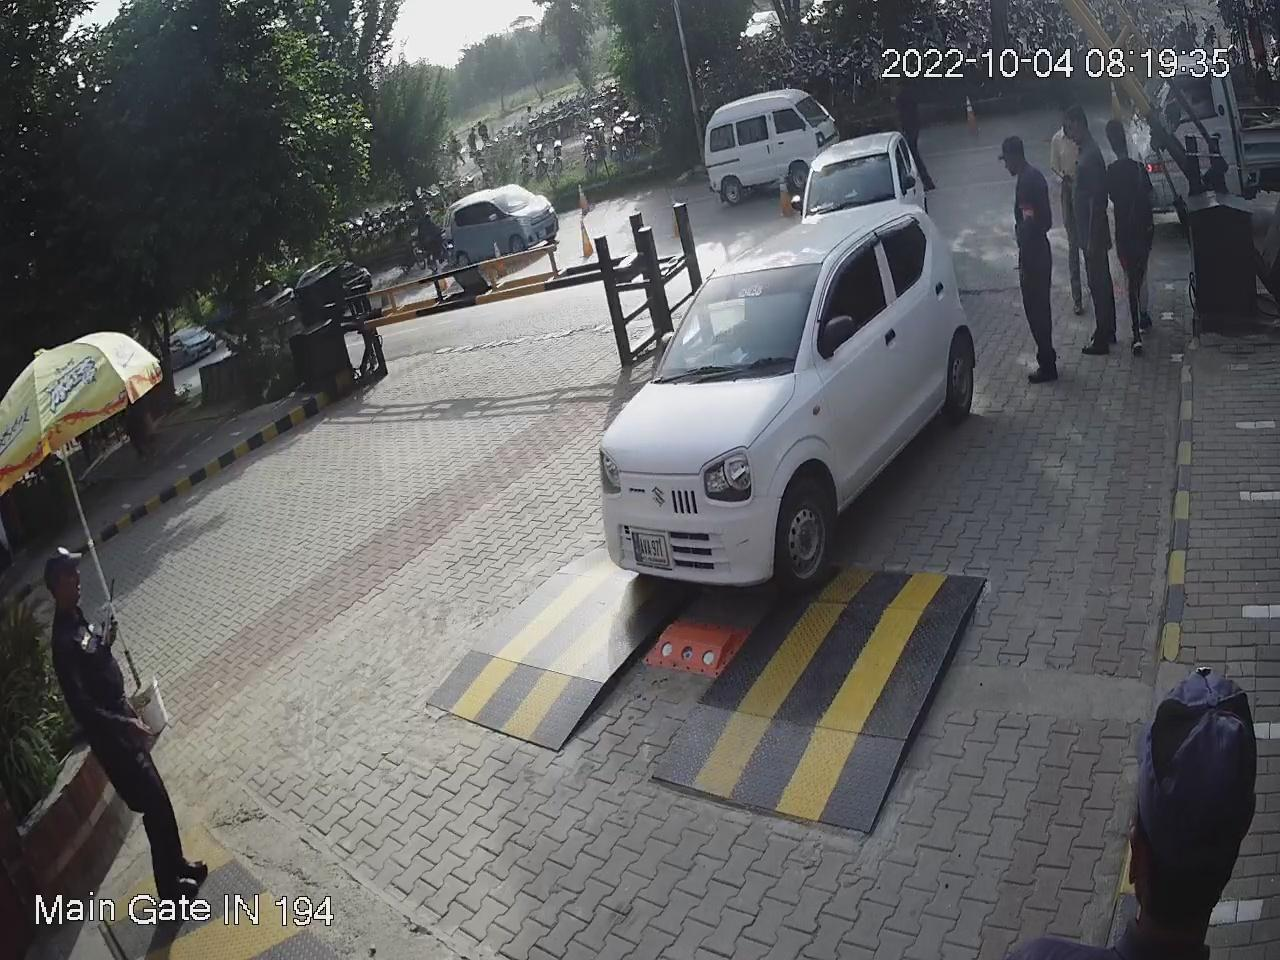windshield: (653, 260, 838, 375)
